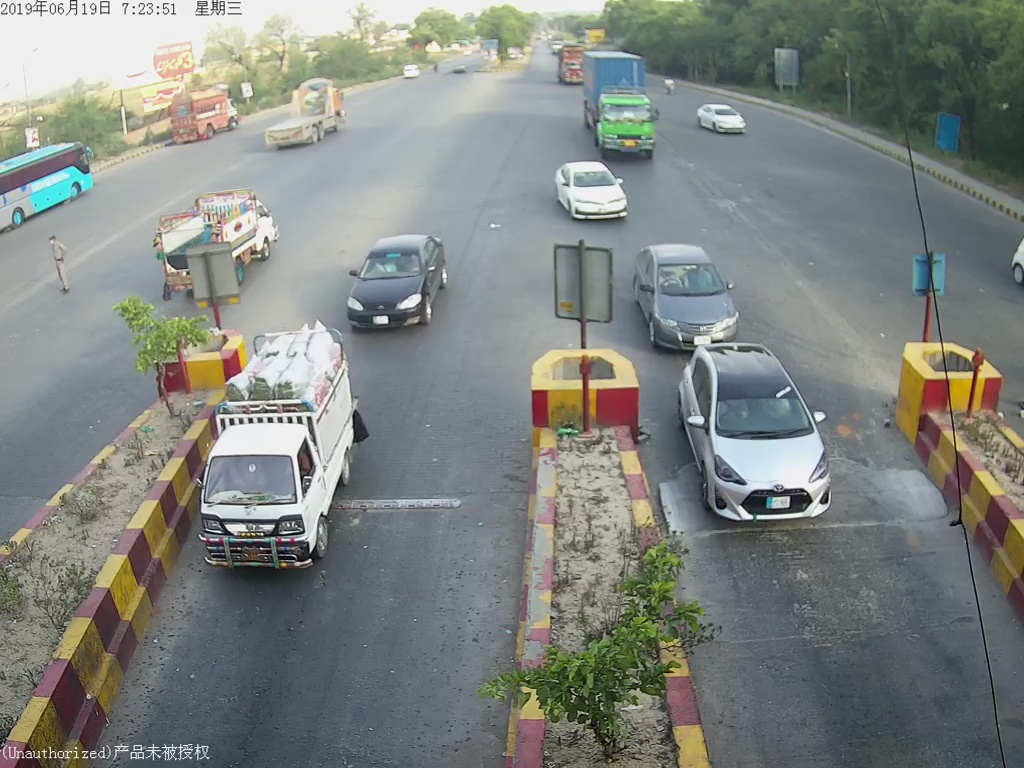Cat-1: (191, 328, 367, 581), (672, 348, 850, 534), (629, 245, 753, 345), (341, 224, 472, 314), (546, 155, 634, 222)
